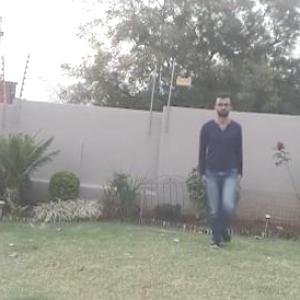follow: (191, 92, 243, 245)
